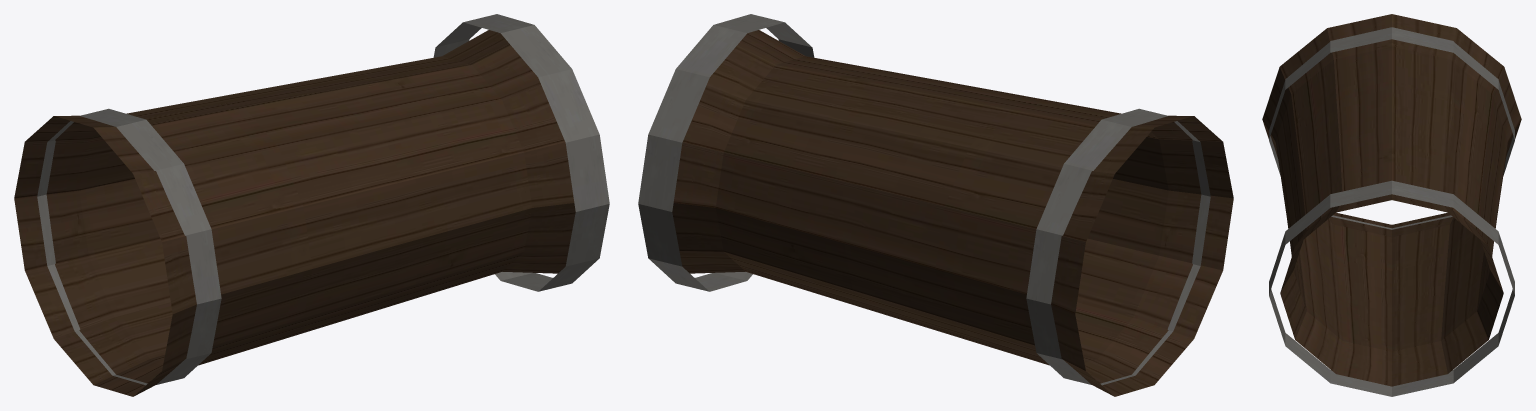
The model's file is eq_past_1_arm.glb.
The picture shows the model from 3 angles, left to right: view 1: azimuth 30°, elevation 25°; view 2: azimuth 150°, elevation 25°; view 3: azimuth 270°, elevation 25°; orthographic projection. The views are drawn at different scales.
Parts seen in each view (by area): view 1: eq_past_1_arm; view 2: eq_past_1_arm; view 3: eq_past_1_arm.
Part boxes in pixels (x1=…): eq_past_1_arm: x1=14, y1=14, x2=609, y2=396; eq_past_1_arm: x1=638, y1=14, x2=1233, y2=396; eq_past_1_arm: x1=1262, y1=14, x2=1521, y2=396.
Size of the model in its own units: 0.233 by 0.13 by 0.145.
Materials: 2 (2 with a texture image).
